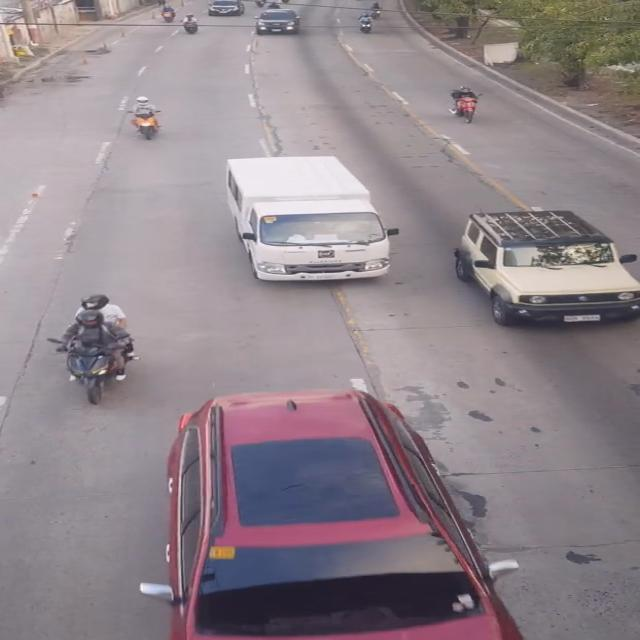car: (156, 388, 507, 640), (456, 201, 640, 328), (257, 4, 303, 37)
motorbike: (59, 293, 133, 407), (126, 95, 160, 140), (446, 81, 482, 123)
truck: (224, 154, 393, 290)
